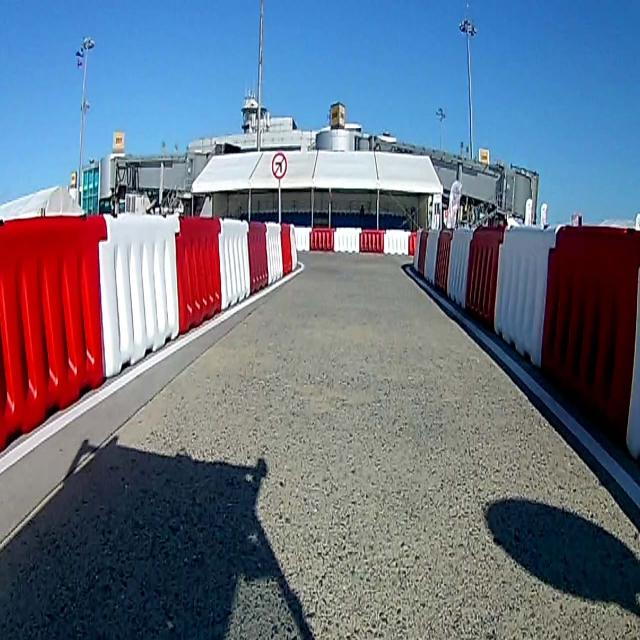soladonulmez: (271, 153, 287, 178)
